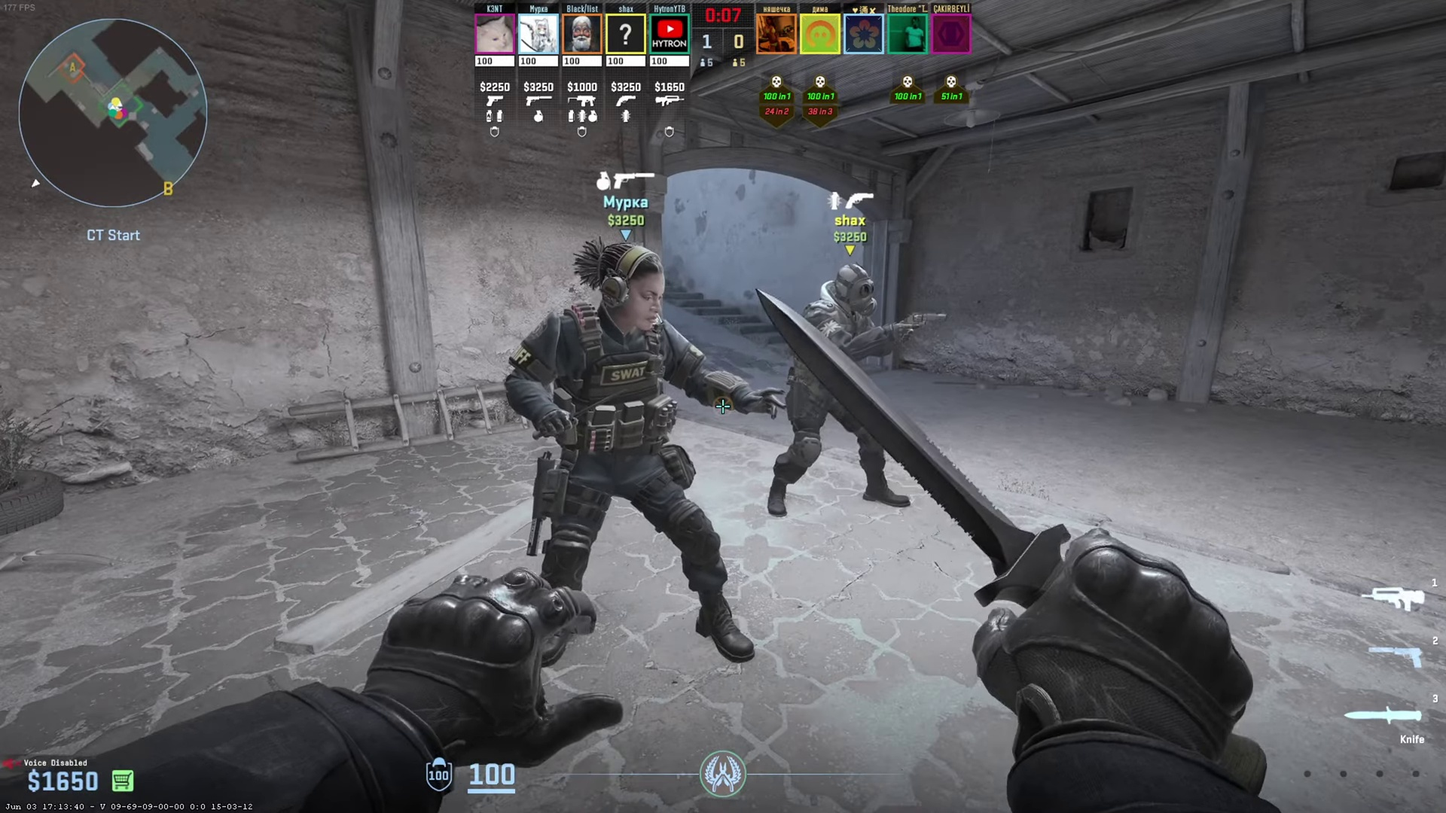CT: (530, 242, 753, 658), (773, 265, 909, 512)
